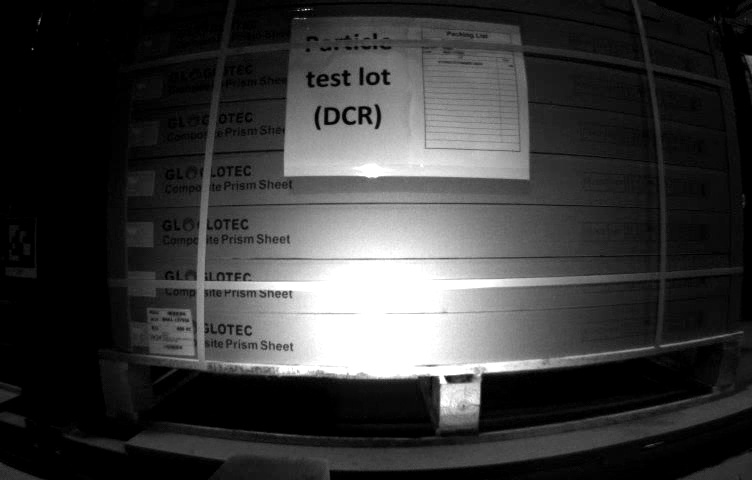True Barcode: (145, 306, 199, 363)
